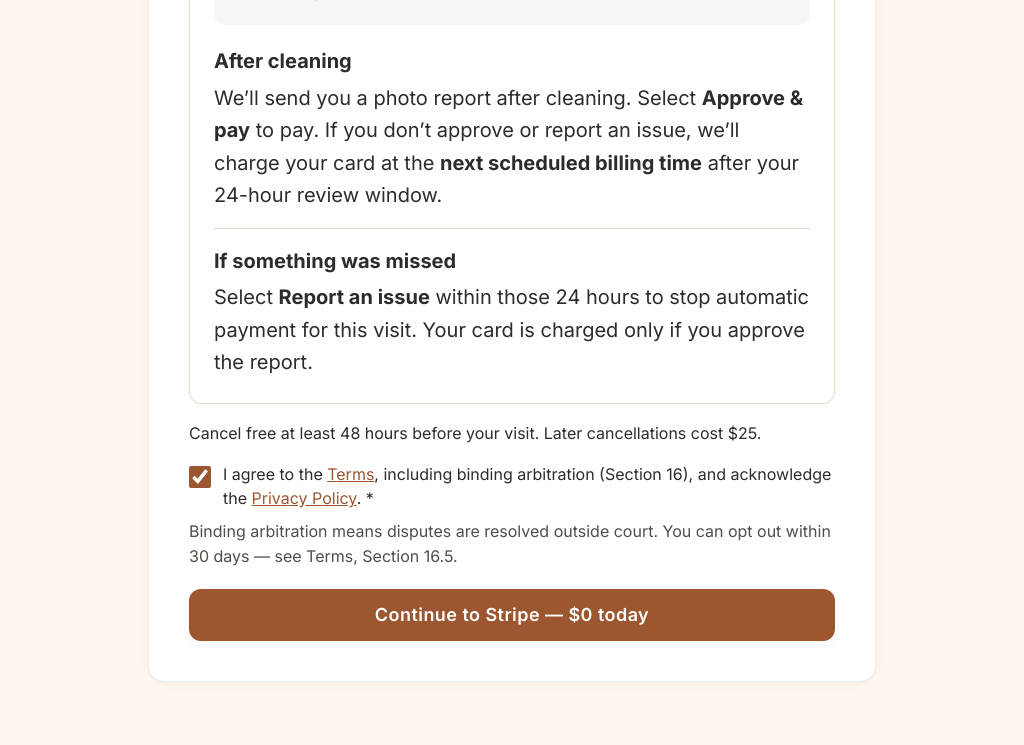
Test: brings a server-rejected date back onto the editable page
Earlier steps of the test are not shown.
(page scrolled)
Click the button "Continue to Stripe — $0 today". click: click(512, 615)
box: [189, 589, 835, 641]
(page scrolled)
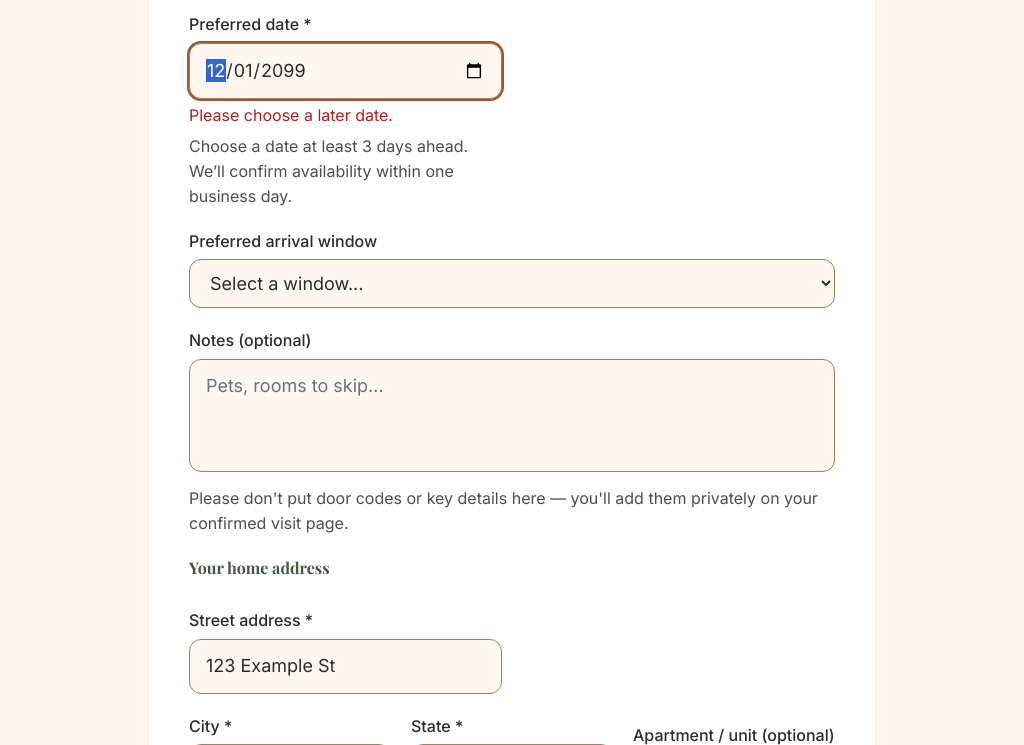
Result: the message reads "Please choose a later date." at [189, 105, 393, 125]
